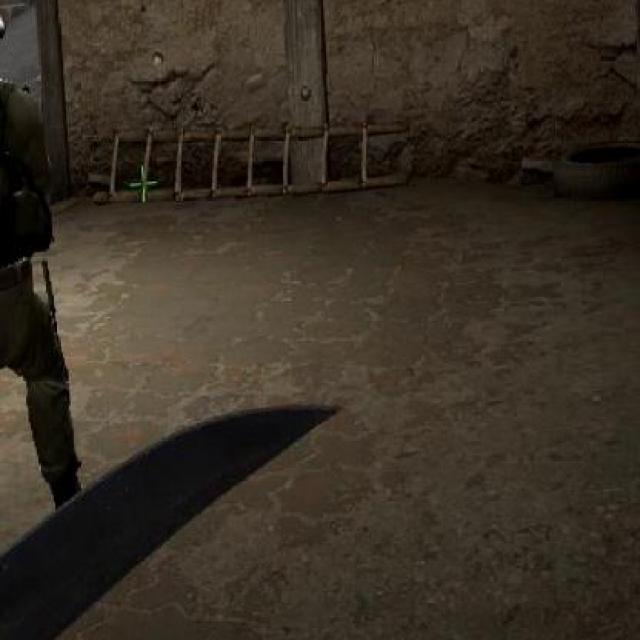CT-Head: (0, 0, 103, 578)
